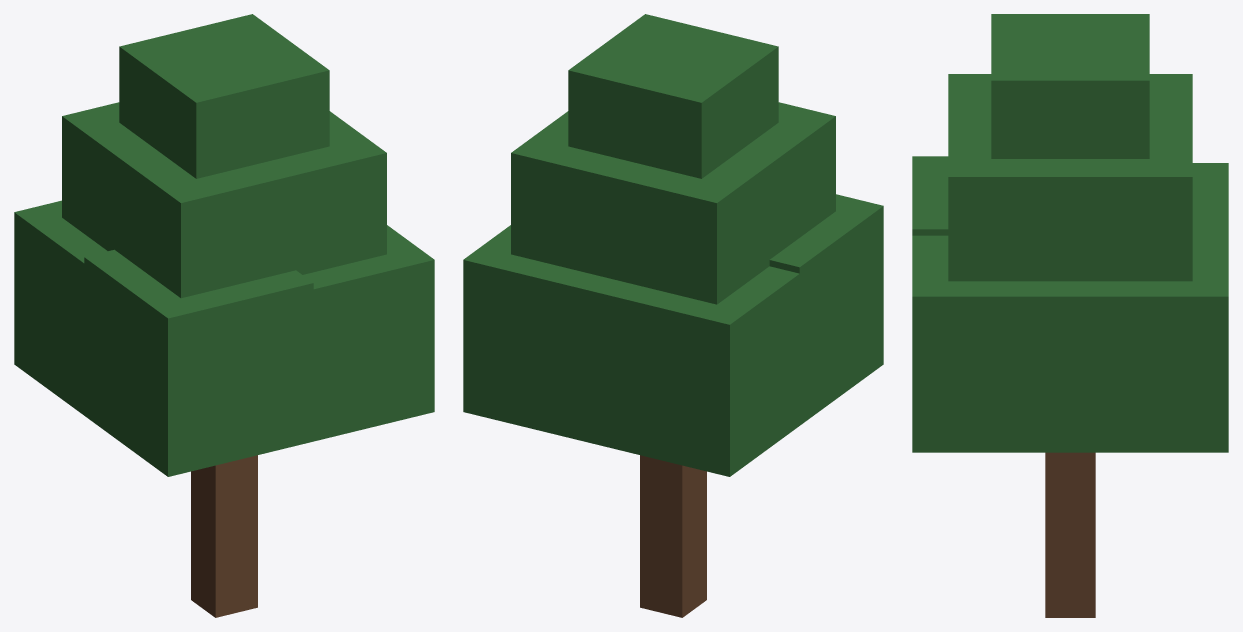
The model's file is tree.gltf.
3 renders of one model, left to right at view 1: azimuth 30°, elevation 25°; view 2: azimuth 150°, elevation 25°; view 3: azimuth 270°, elevation 25°, orthographic. The views are drawn at different scales.
Visible parts, largest first — view 1: tree; view 2: tree; view 3: tree.
Part boxes in pixels (<box>): tree: <box>14,14,434,617</box>; tree: <box>463,14,883,617</box>; tree: <box>912,14,1228,617</box>.
Size of the model in its own units: 2.2 by 4.3 by 2.2.
1 material, 1 textured.
